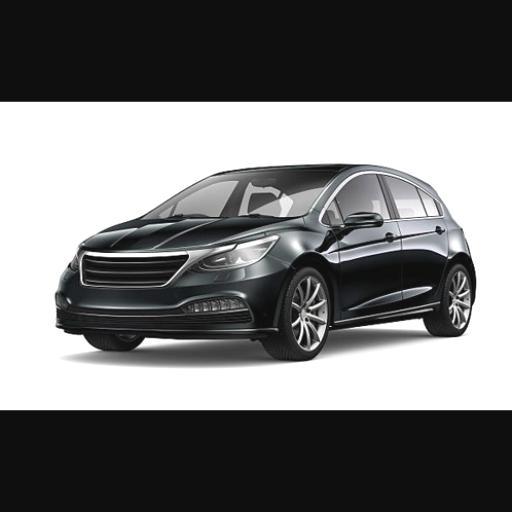hatchback: (57, 163, 475, 358)
